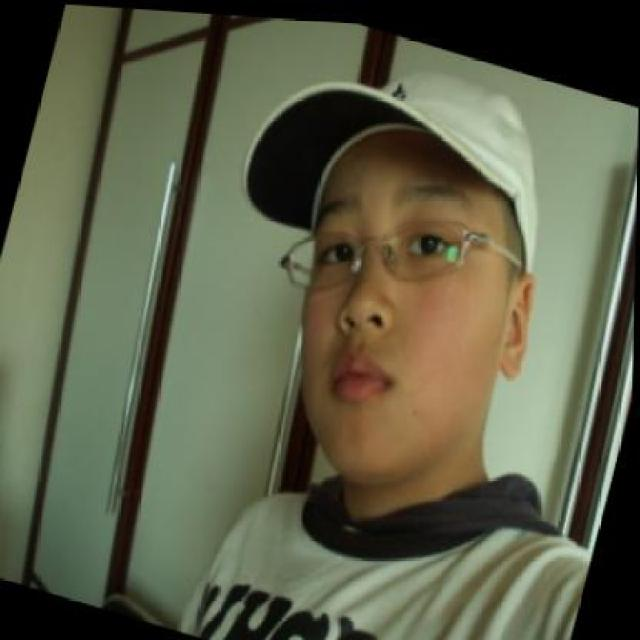hat: (231, 12, 583, 300)
